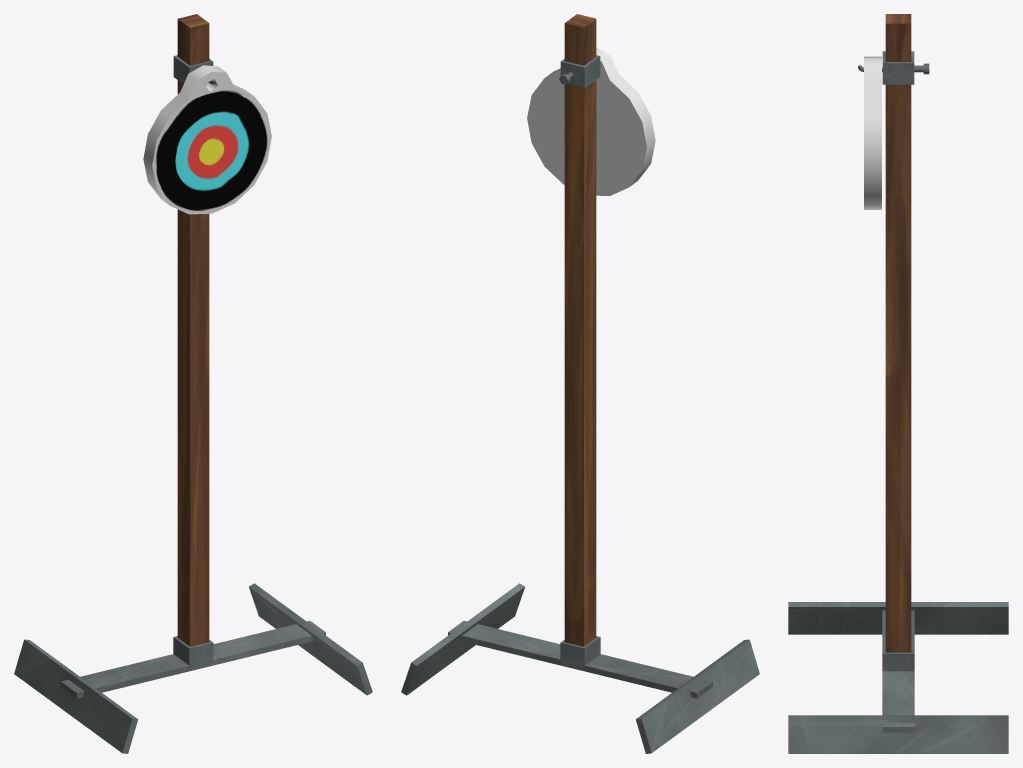
The model's file is dianaSobrePalito.obj.
3 renders of one model, left to right at view 1: azimuth 30°, elevation 25°; view 2: azimuth 150°, elevation 25°; view 3: azimuth 270°, elevation 25°, orthographic.
Visible parts, largest first — view 1: polySurface46, polySurface41; view 2: polySurface46, polySurface41; view 3: polySurface46, polySurface41.
Part boxes in pixels (x1,y1,x2,y2): polySurface46: (14, 14, 372, 753); polySurface41: (143, 55, 271, 214); polySurface46: (401, 14, 759, 753); polySurface41: (527, 47, 655, 195); polySurface46: (788, 14, 1008, 753); polySurface41: (858, 51, 929, 209).
Size of the model in its own units: 33.73 by 85.44 by 25.26.
2 materials, 2 textured.
